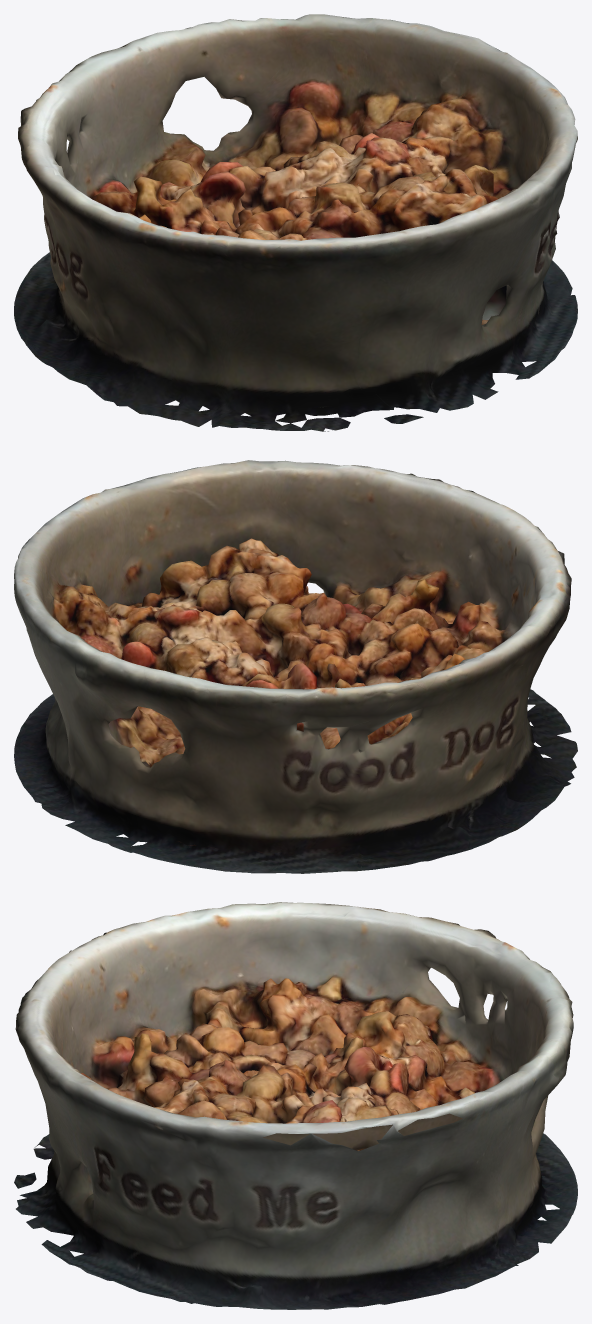
The model's file is dog_food.glb.
The picture shows the model from 3 angles, top to bottom: view 1: azimuth 30°, elevation 25°; view 2: azimuth 150°, elevation 25°; view 3: azimuth 270°, elevation 25°; orthographic projection.
Parts seen in each view (by area): view 1: meshes[0]; view 2: meshes[0]; view 3: meshes[0].
Part boxes in pixels (box(x1,y1,x2,y2)): meshes[0]: box(14, 14, 577, 431); meshes[0]: box(14, 460, 577, 873); meshes[0]: box(14, 902, 577, 1309).
Size of the model in its own units: 0.00813 by 0.003 by 0.00811.
1 material, 1 textured.
